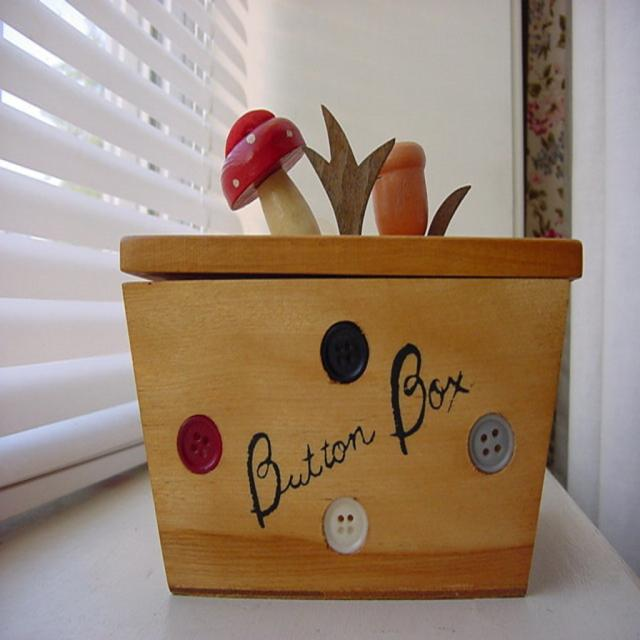Box: (118, 233, 586, 602)
